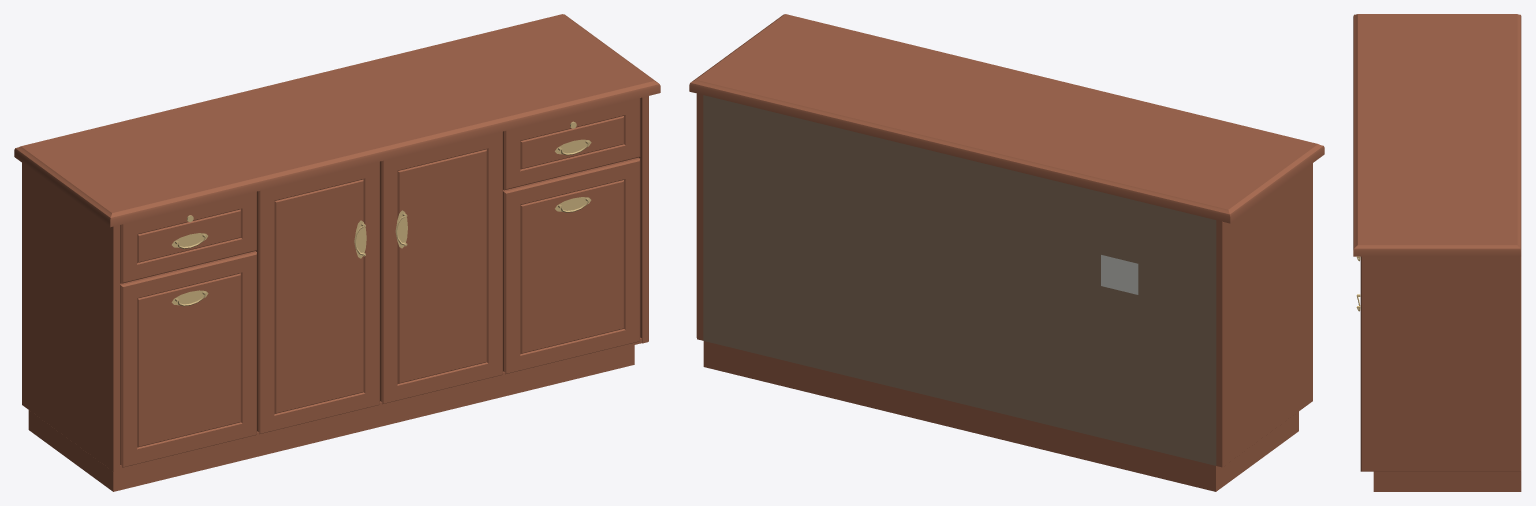
The model's file is Kit_Credenza.fbx.
The picture shows the model from 3 angles, left to right: view 1: azimuth 30°, elevation 25°; view 2: azimuth 150°, elevation 25°; view 3: azimuth 270°, elevation 25°; orthographic projection. The views are drawn at different scales.
Parts seen in each view (by area): view 1: Kit_Credenza_LOD0; view 2: Kit_Credenza_LOD0; view 3: Kit_Credenza_LOD0.
Part boxes in pixels (left/top/right/bottom): Kit_Credenza_LOD0: left=14, top=14, right=660, bottom=491; Kit_Credenza_LOD0: left=689, top=14, right=1324, bottom=491; Kit_Credenza_LOD0: left=1353, top=14, right=1521, bottom=491.
Size of what is drawn, in the model's own units: 1.52 by 0.76 by 0.4603.
